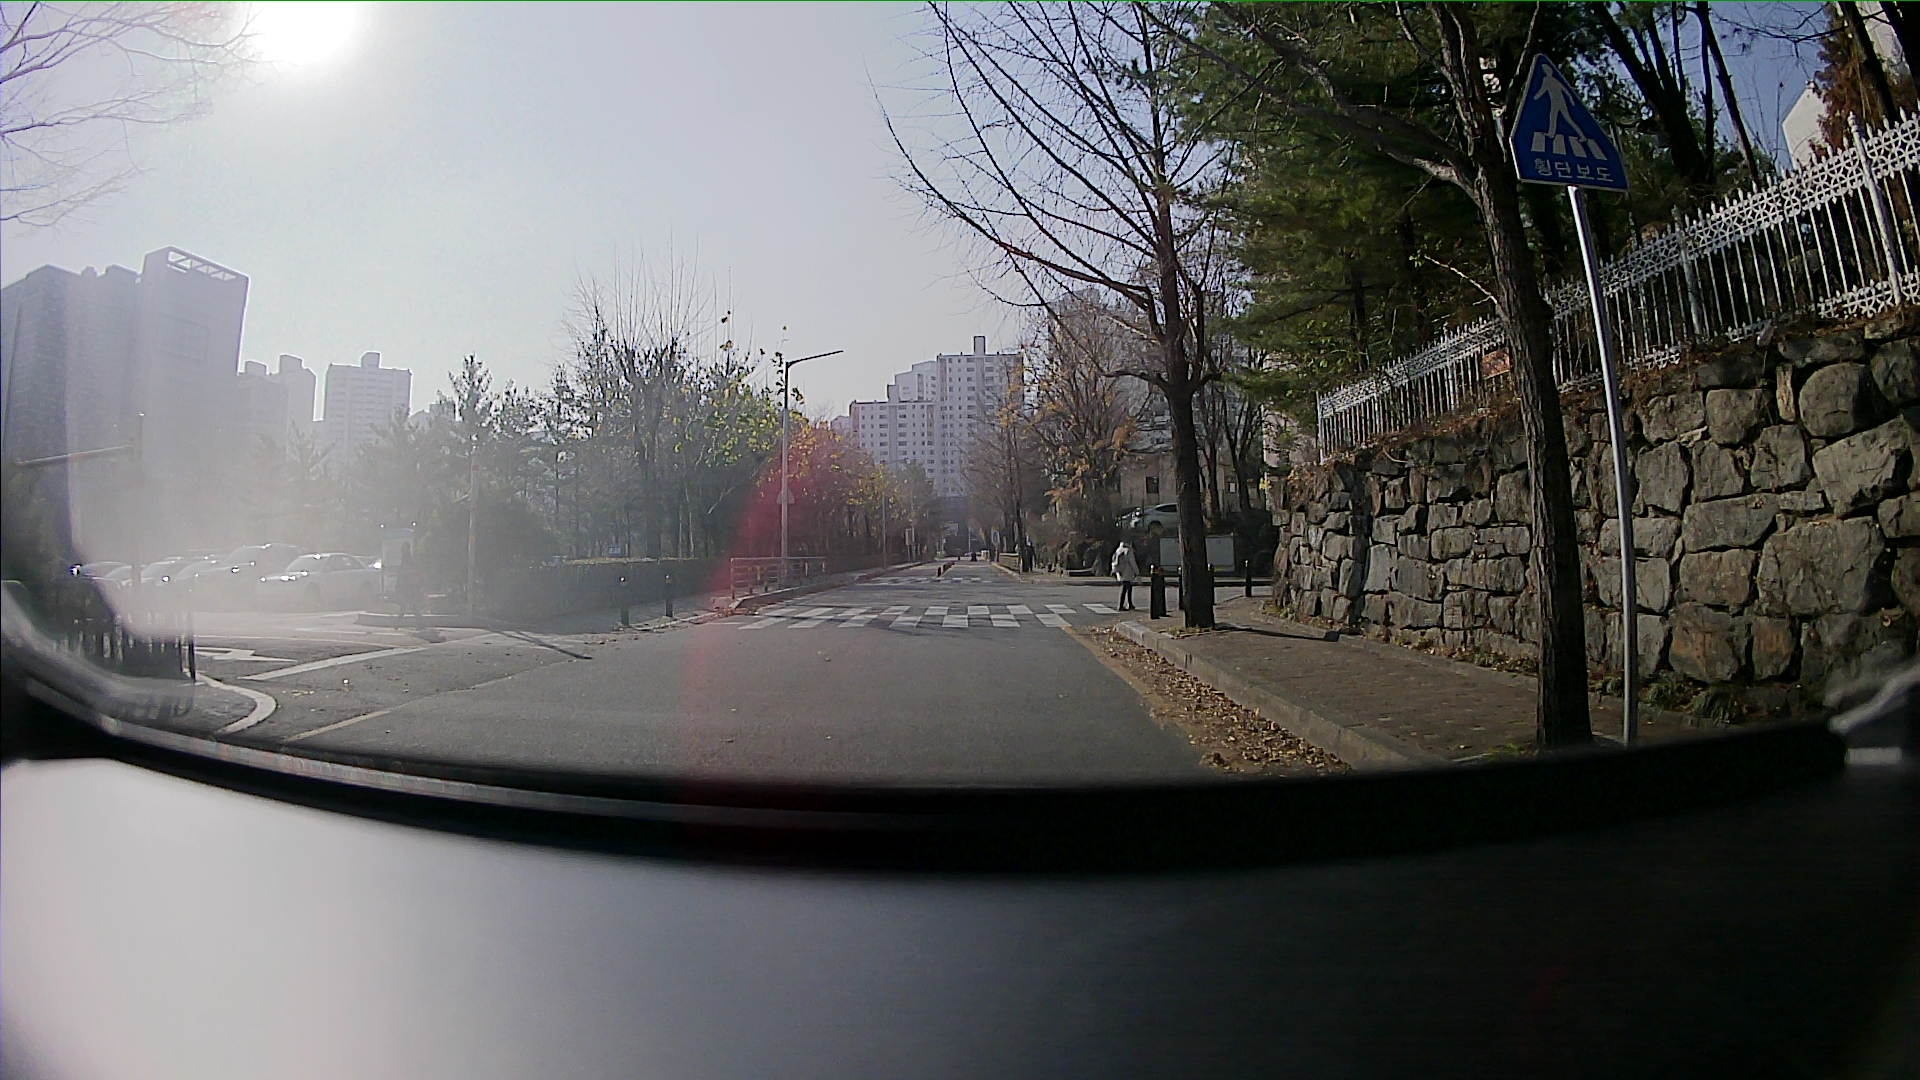trafficSignTri: (1514, 49, 1629, 193)
